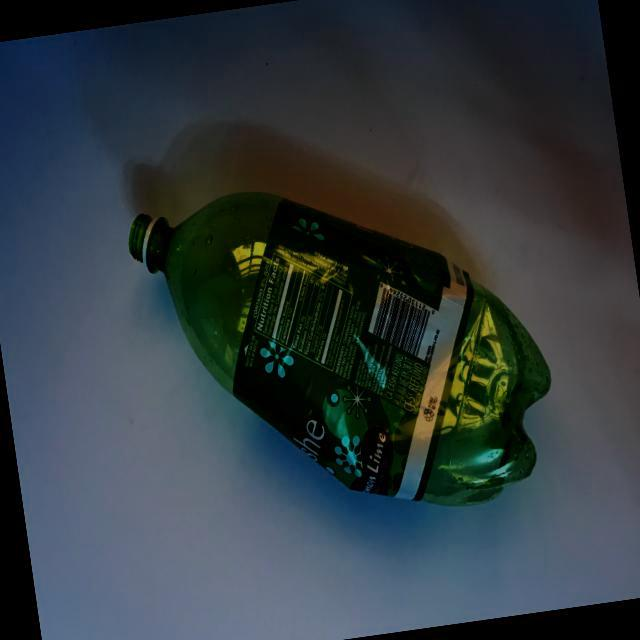plastic: (104, 125, 580, 554)
